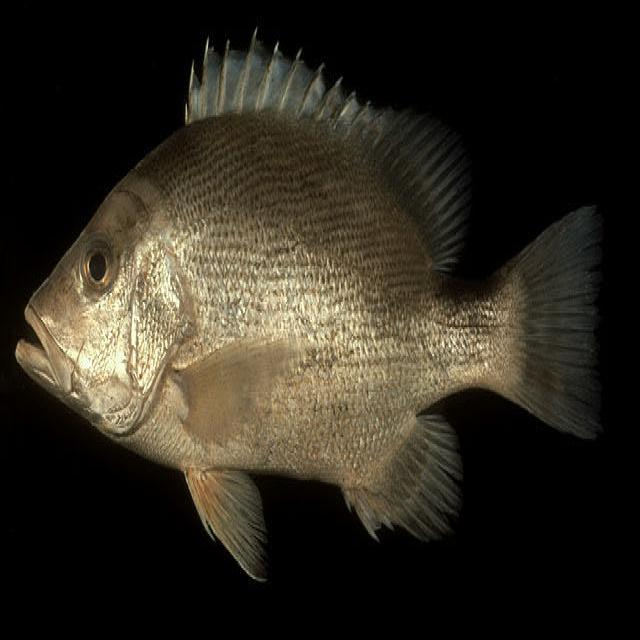ikan: (14, 25, 606, 584)
